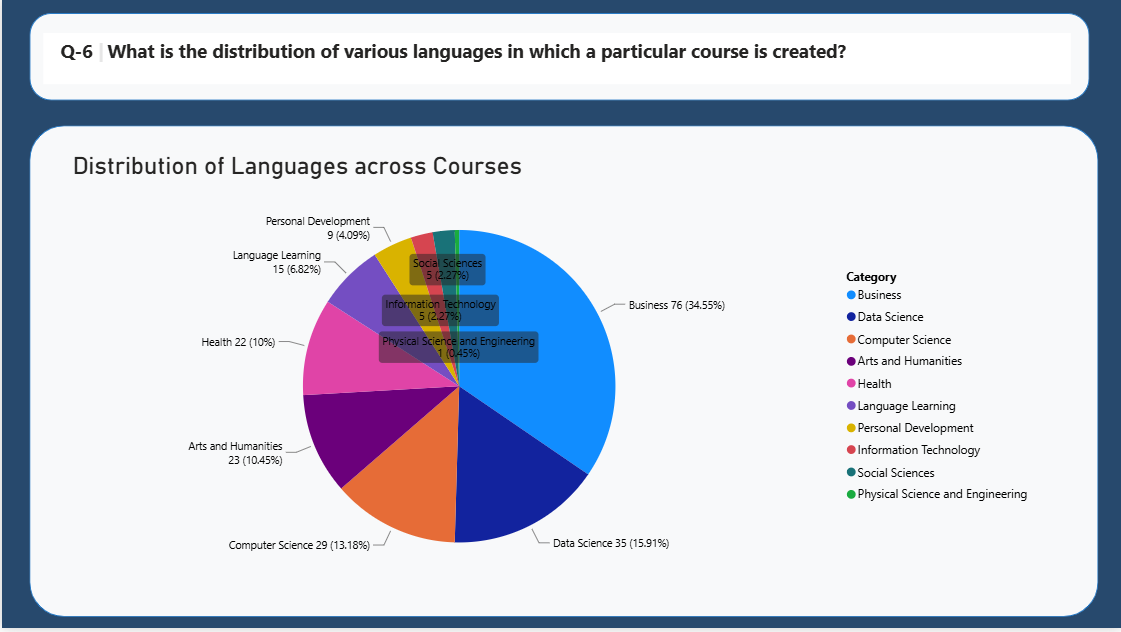

The page's visual inventory and layout, read from the dashboard file:
{"tool":"powerbi","page":{"name":"Q-6","canvas":[1280,720],"ordinal":6},"visuals":[{"type":"shape","box":[31.4,17.1,1211.4,100],"z":0},{"type":"shape","box":[31.4,145.7,1221.4,561.4],"z":0,"group":"g1"},{"type":"group","id":"g1","title":"Group 1","box":[31.4,145.7,1221.4,561.4],"z":1000},{"type":"pieChart","title":"Distribution of Languages across Courses","fields":{"Y":["CountNonNull(Online_Course.CourseID)"],"Category":["Online_Course.Language","Online_Course.Category"],"Series":["Online_Course.Category"]},"box":[75.5,176.3,1110,505.7],"z":1000,"group":"g1"},{"type":"textbox","box":[47.1,40,1174.3,58.6],"z":2000}]}

Visuals, with their boxes in screenshot pixels (x1, y1, x2, y2), scaled from the page's 1280x720 canvas onto the 1121x632 screenshot:
shape: (27, 15, 1088, 103)
shape: (27, 128, 1097, 621)
"Group 1" group: (27, 128, 1097, 621)
"Distribution of Languages across Courses" pieChart: (66, 155, 1038, 599)
textbox: (41, 35, 1070, 87)
